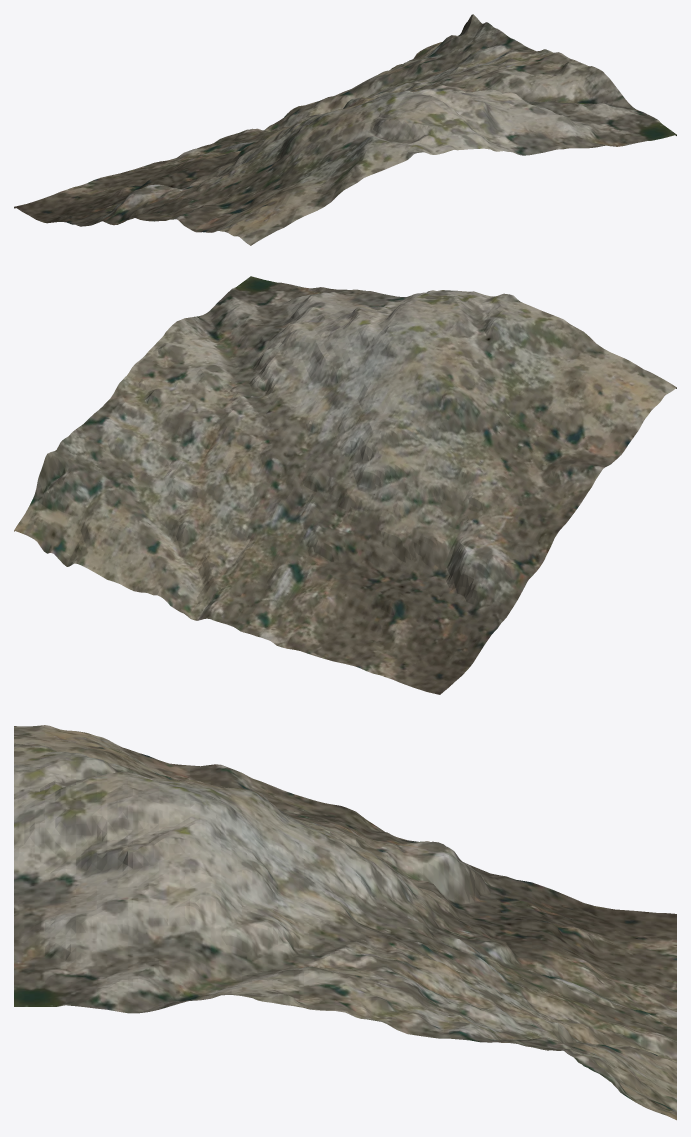
The picture shows the model from 3 angles, top to bottom: view 1: azimuth 30°, elevation 25°; view 2: azimuth 150°, elevation 25°; view 3: azimuth 270°, elevation 25°; orthographic projection. The views are drawn at different scales.
Size of the model in its own units: 250 by 110 by 241.
Materials: 1 (1 with a texture image).
